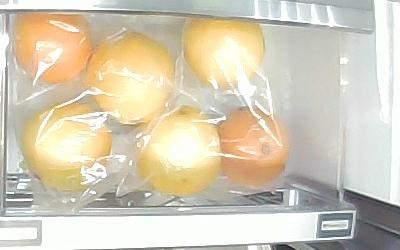grapefruit_vinyl: (20, 100, 111, 192), (133, 106, 222, 196), (88, 32, 174, 125), (181, 14, 266, 90), (214, 106, 290, 187), (12, 10, 92, 85)
